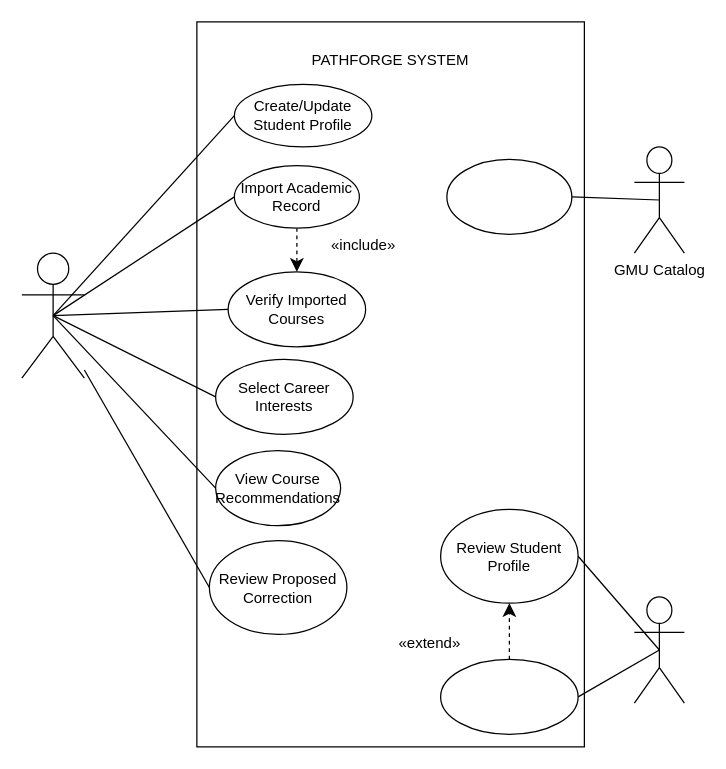
Some shapes in this 726 by 769 pixel diagram are drawn without their labels. The shapes that lost their labels are listed below. From the top down, each one's centre as x and y in pixels, then its label:
the point at 509,196: Retrieve Course Info
the point at 52,315: Student
the point at 658,649: Advisor
the point at 508,696: Propose Profile Correction
